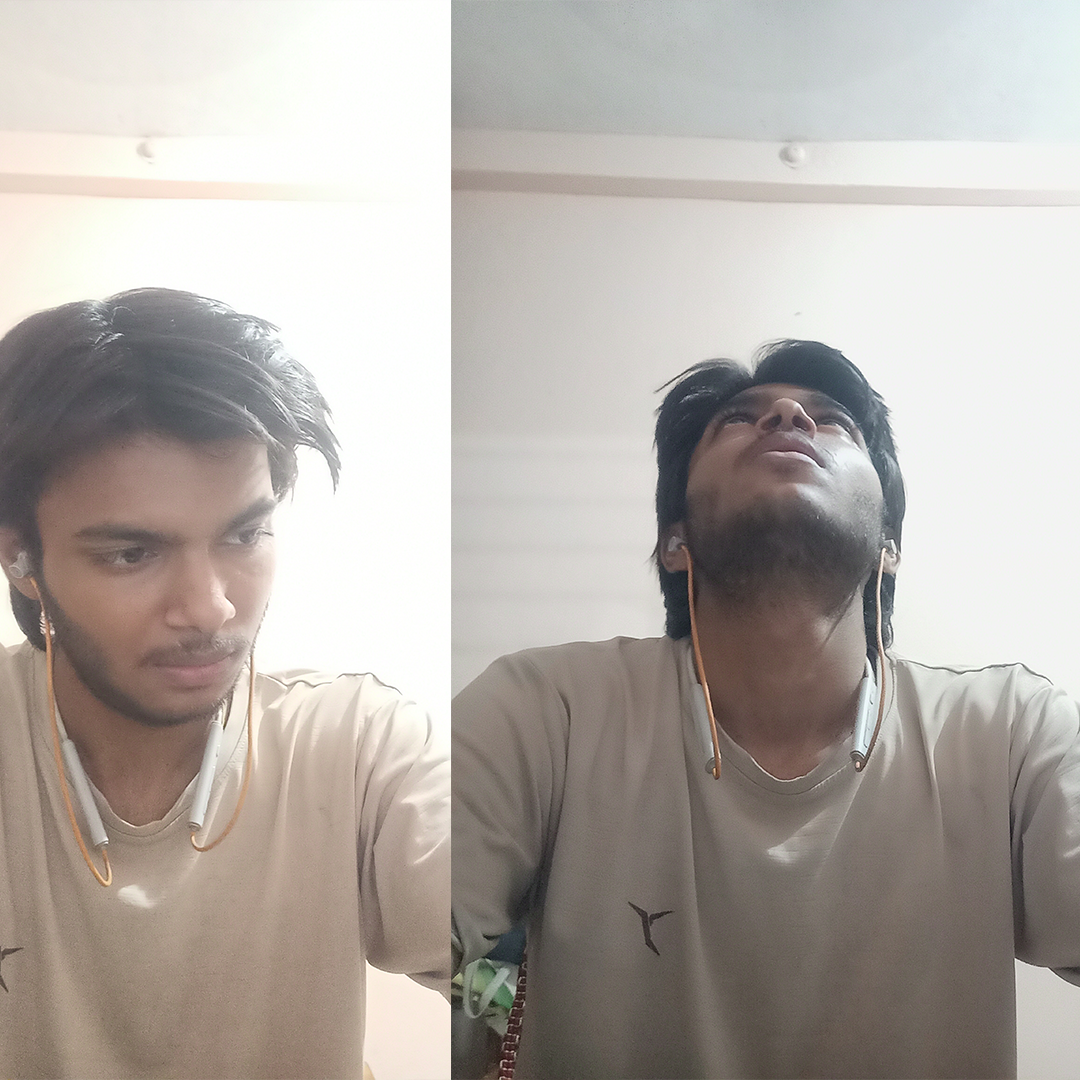distracted: (545, 304, 945, 744), (47, 271, 371, 742)
